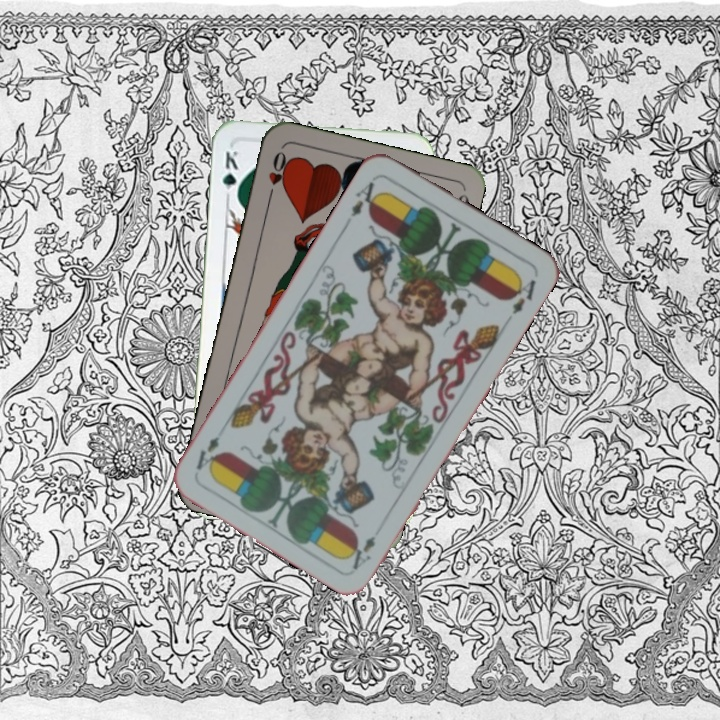EA: (346, 174, 384, 220), (345, 531, 379, 573)
GK: (218, 147, 241, 204)
HO: (264, 147, 292, 204)
